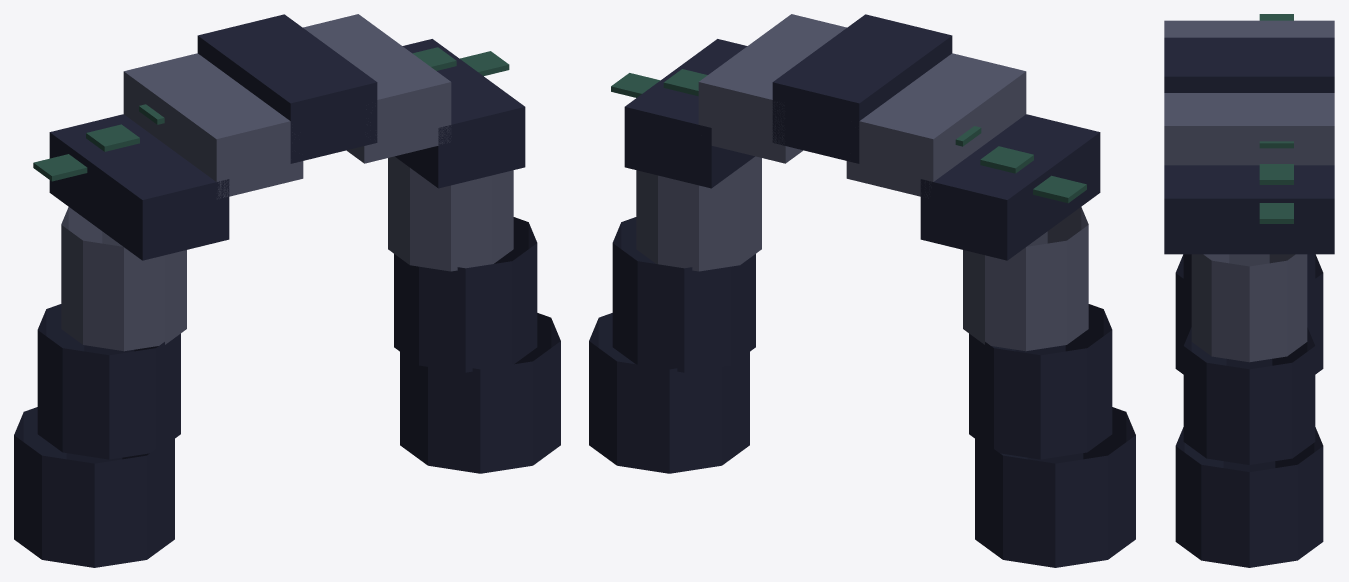
The model's file is moonfall_moss_rock_arch.obj.
The picture shows the model from 3 angles, left to right: view 1: azimuth 30°, elevation 25°; view 2: azimuth 150°, elevation 25°; view 3: azimuth 270°, elevation 25°; orthographic projection. The views are drawn at different scales.
Parts seen in each view (by area): view 1: moonfall_moss_rock_arch; view 2: moonfall_moss_rock_arch; view 3: moonfall_moss_rock_arch.
Part boxes in pixels (x1,y1,x2,y2): moonfall_moss_rock_arch: (14,14,560,567); moonfall_moss_rock_arch: (589,14,1135,567); moonfall_moss_rock_arch: (1164,14,1334,567).
Size of the model in its own units: 8.13 by 6.35 by 2.5.
